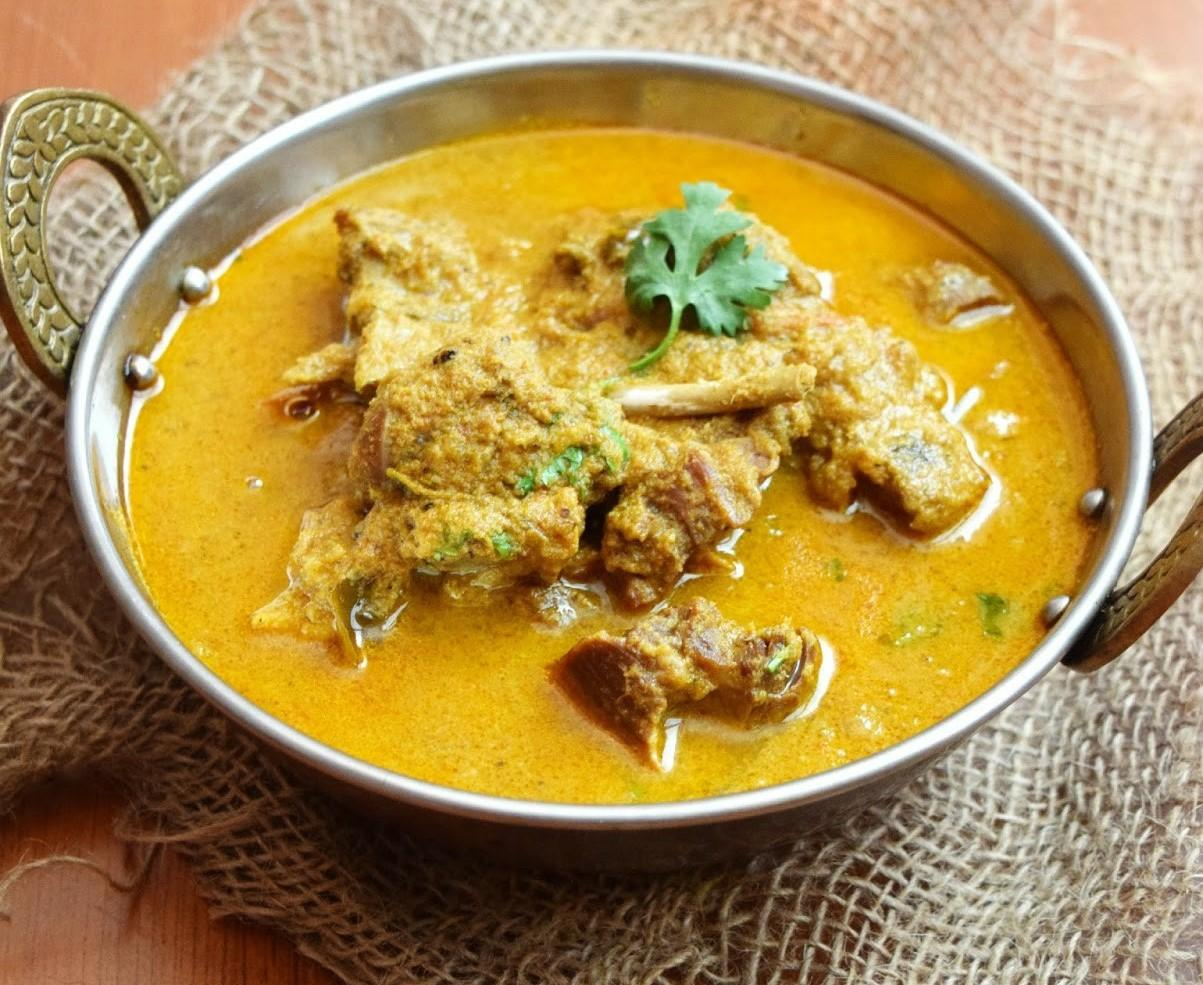MuttonCurry: (121, 118, 1097, 806)
